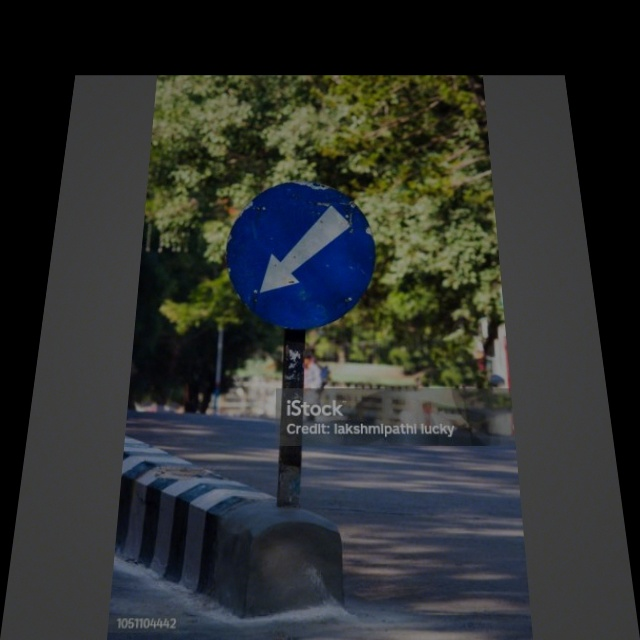Compulsory_Keep_Left: (217, 180, 387, 345)
